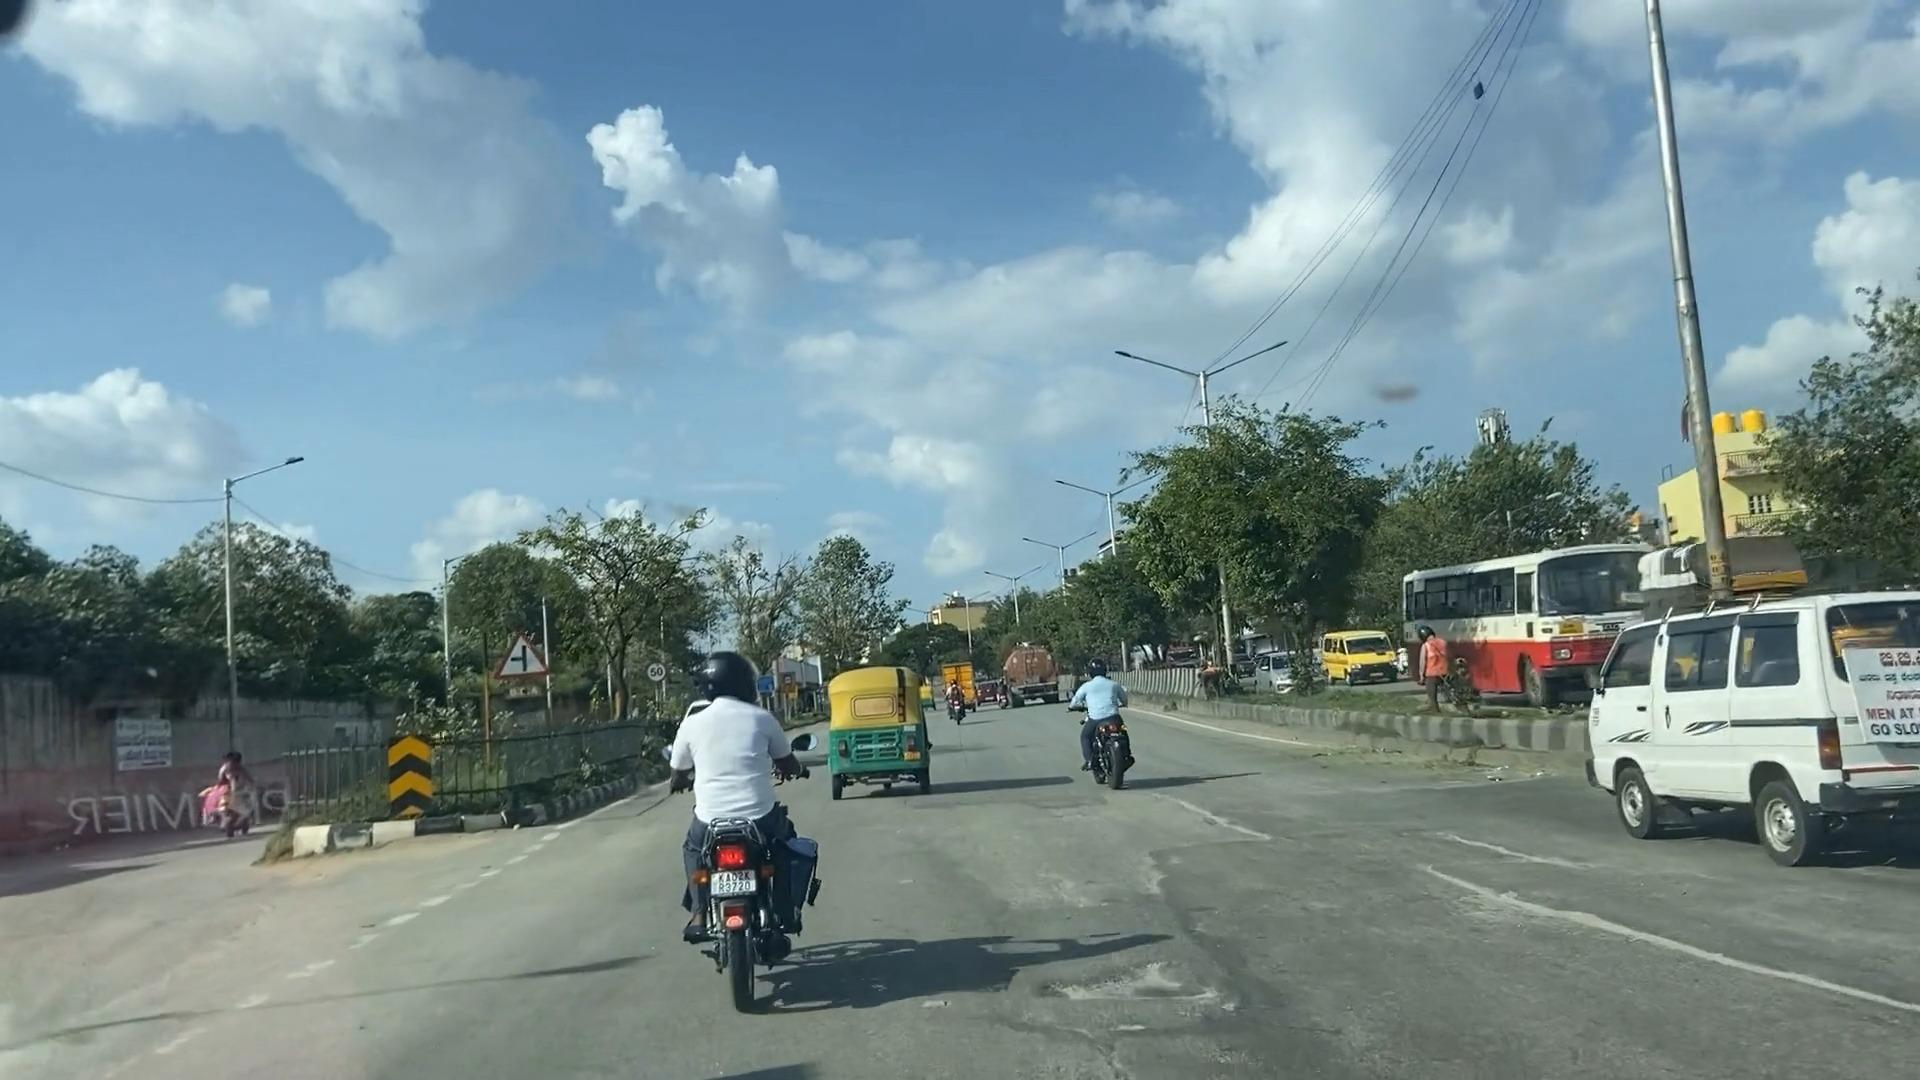HMV: (1387, 534, 1631, 687)
RoadDamages: (1416, 839, 1911, 1050), (953, 877, 1228, 1072)
